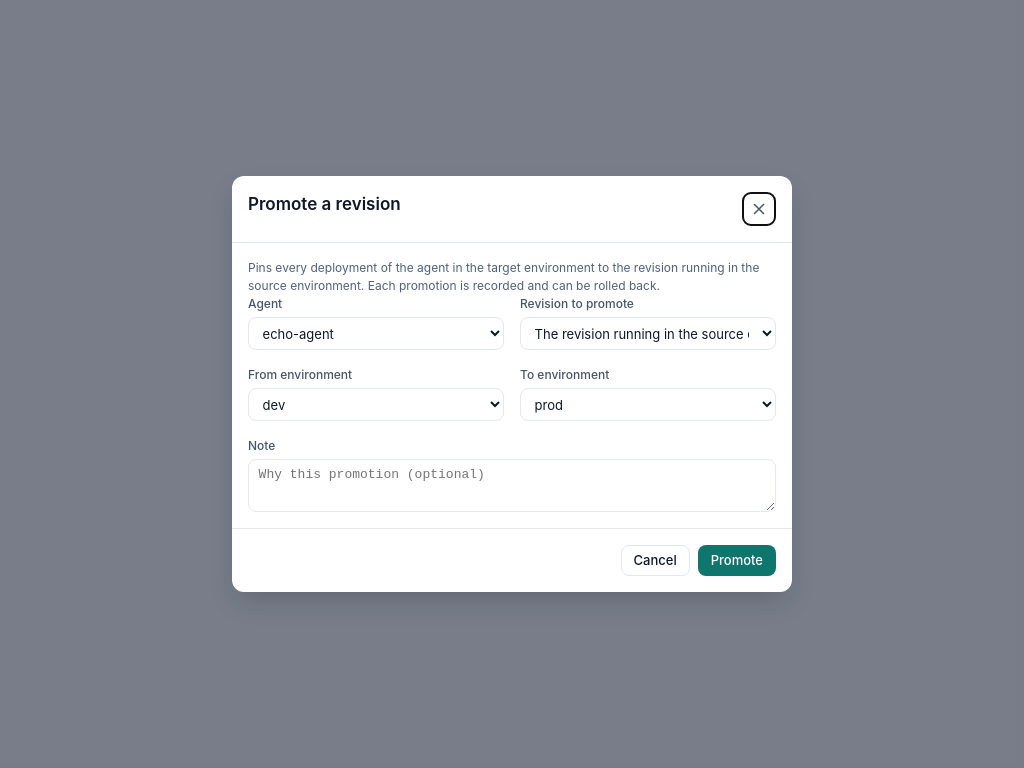
Scenario: promote dialog › asks for Allow skipping before a skip, then shows the server refusal
Select "prod" in the dropdown labelled "To environment". click: (648, 405)
box: [520,388,776,421]
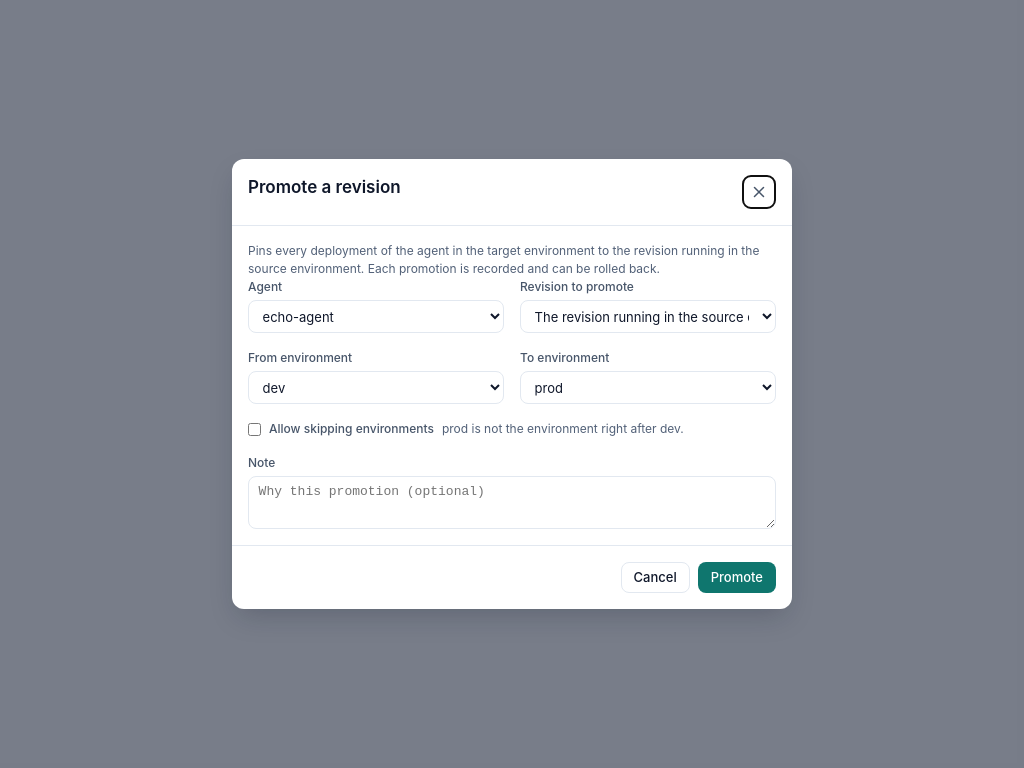
Now the dialog with class "modal" shows "prod is not the environment right after dev.", box [442,421,684,436]
Click the button with test id "promote-submit". click: (737, 577)
box: [698,562,776,592]
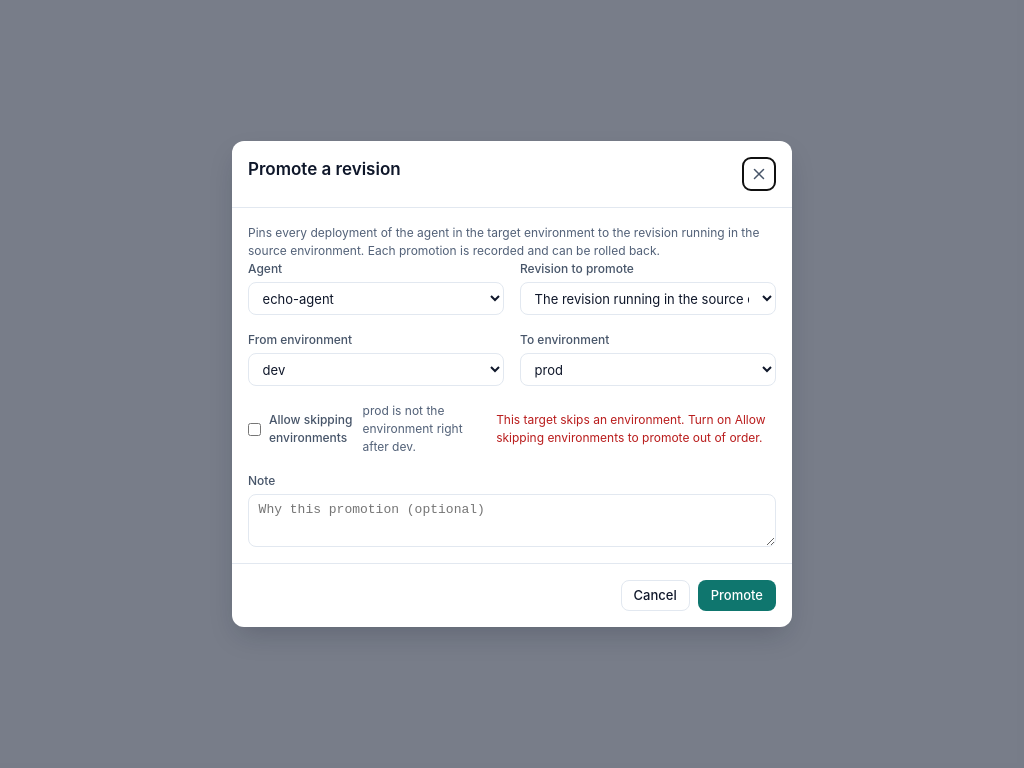
Now the message with class "field-error" shows "Allow skipping environments", box [496,412,766,445]
Click the checkbox labelled "Allow skipping environments". click: (254, 429)
box: [248,422,261,436]
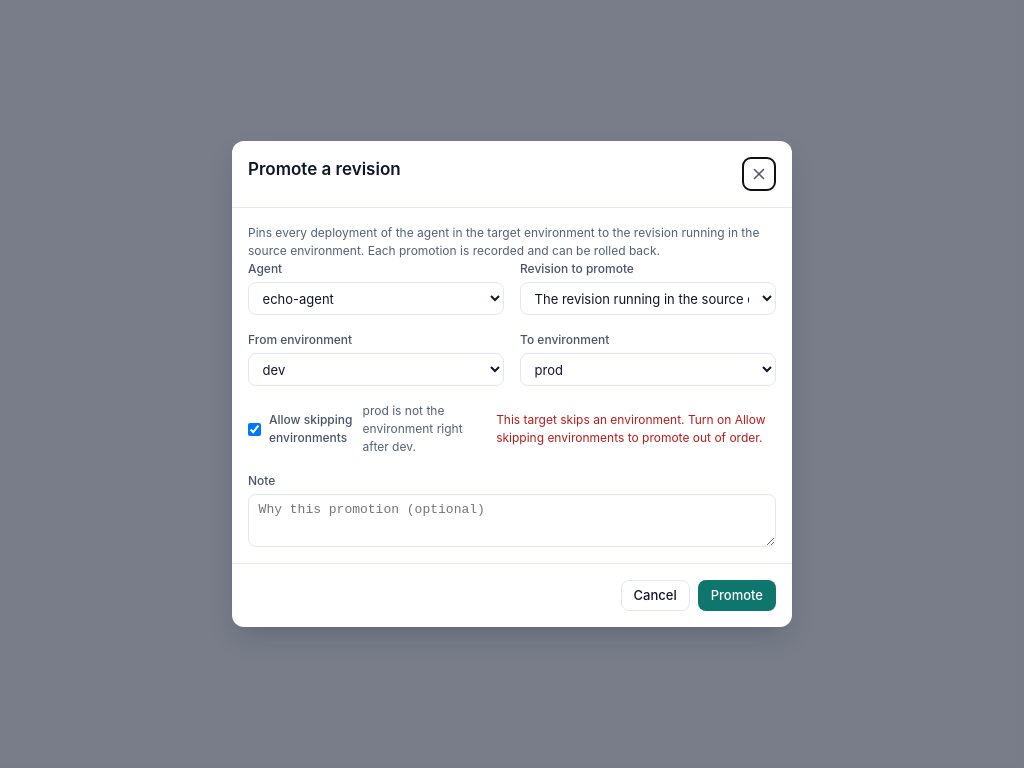
Click the button with test id "promote-submit". click: (737, 595)
box: [698,580,776,610]
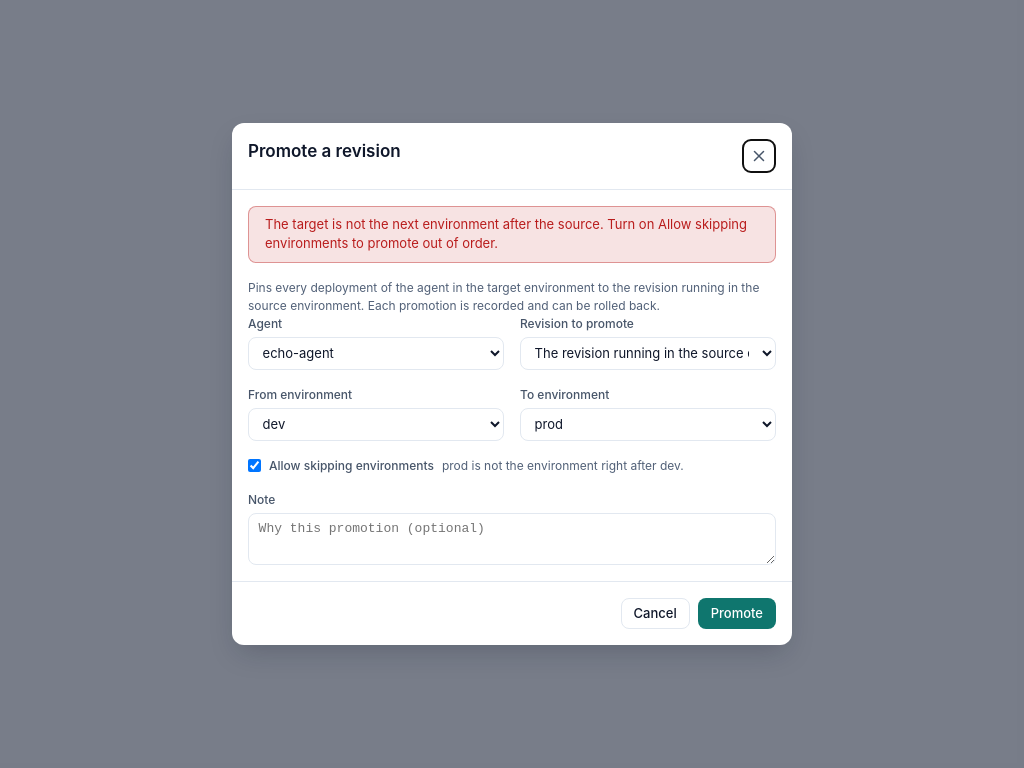
Now the element with test id "promote-error" shows "The target is not the next environment after the source.", box [265,216,747,252]
